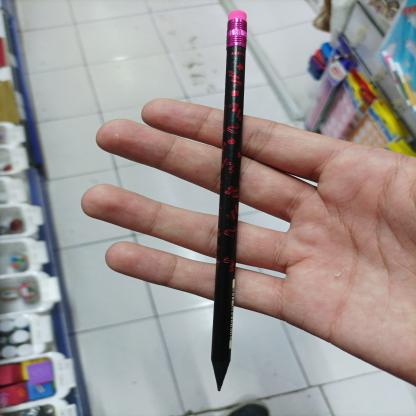pencil: (207, 14, 247, 397)
